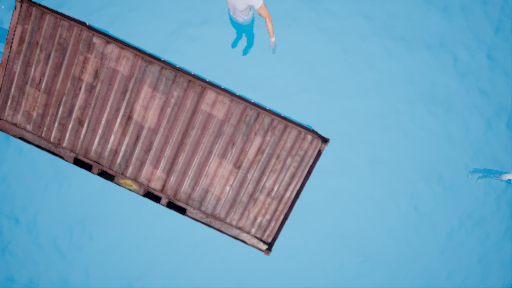person: (219, 2, 285, 62)
